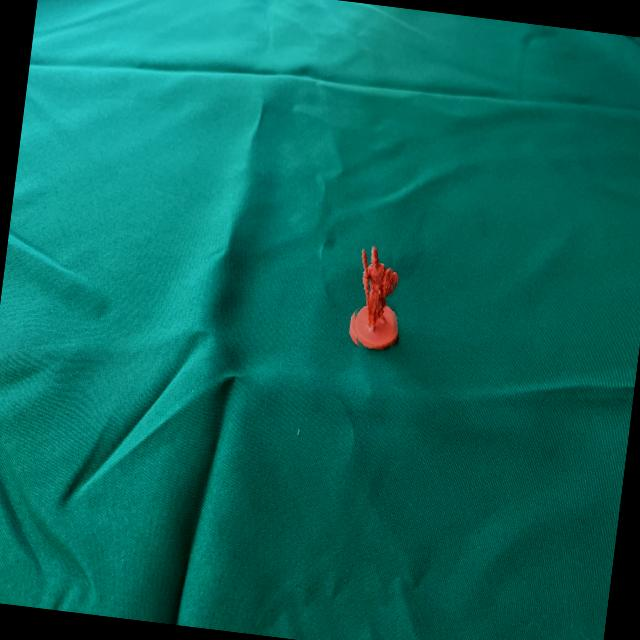amon_follower: (355, 246, 399, 348)
